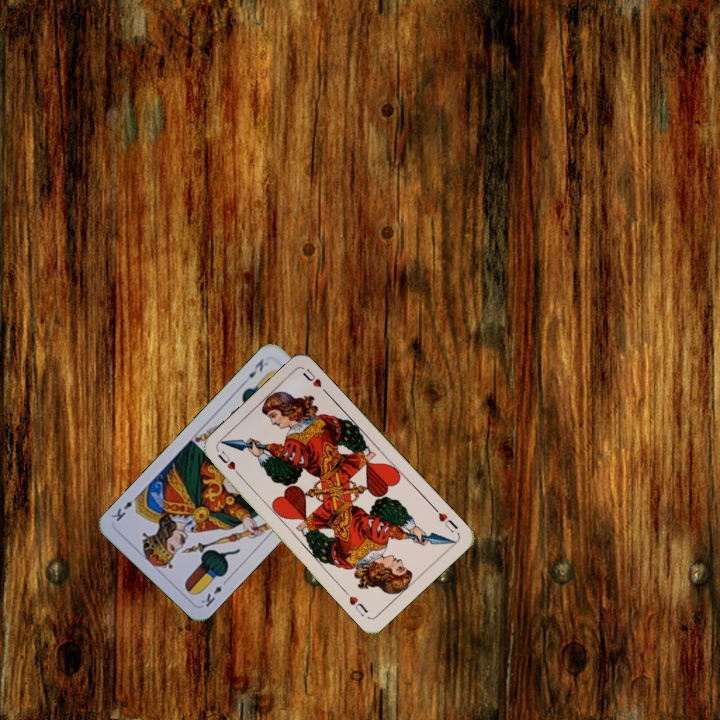EK: (197, 575, 231, 609), (244, 355, 266, 381)
HU: (213, 447, 245, 480), (430, 503, 461, 535)
